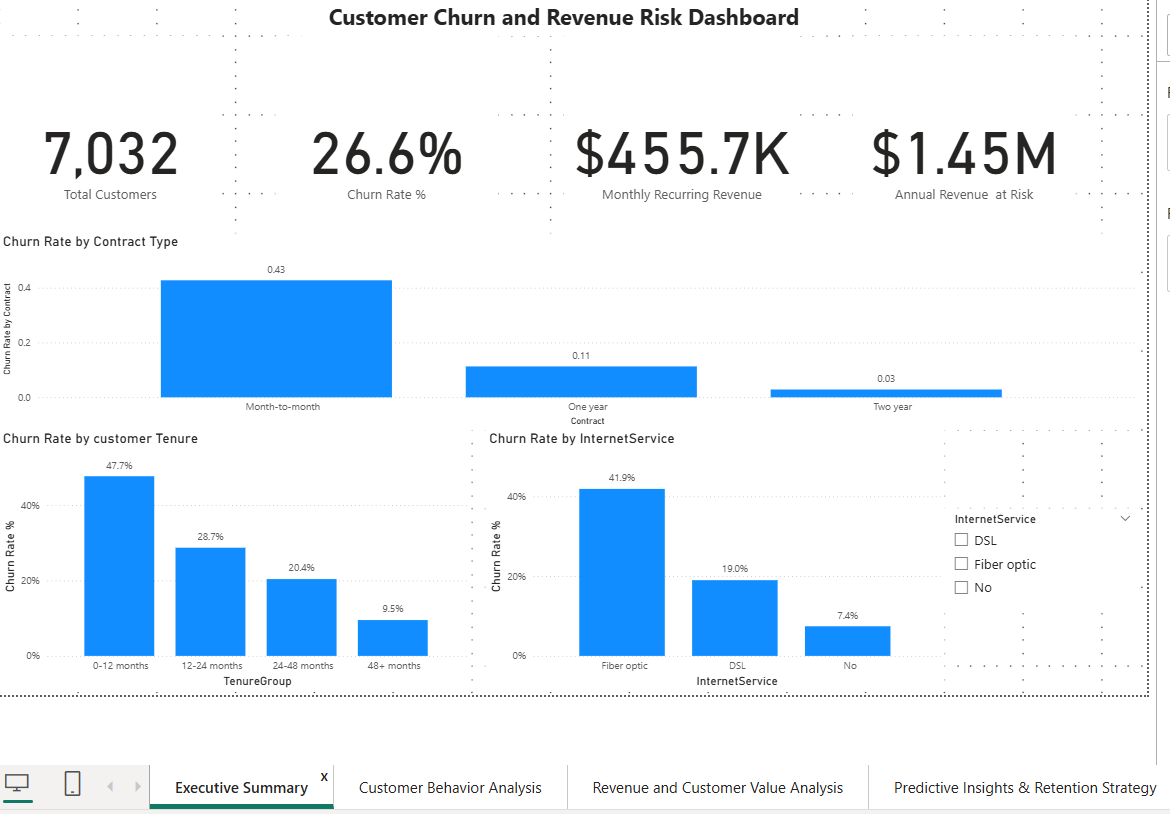

This screenshot's page, from the dashboard's own definition file:
{"tool":"powerbi","page":{"name":"Executive Summary","canvas":[1400,900],"ordinal":0},"visuals":[{"type":"card","fields":{"Values":["clean_telco_churn.Total Customers"]},"box":[0,96,272,288],"z":0},{"type":"card","fields":{"Values":["clean_telco_churn.Churn Rate %"]},"box":[336,96,272,288],"z":1000},{"type":"card","fields":{"Values":["clean_telco_churn.Total Revenue"]},"box":[688,96,288,288],"z":2000},{"type":"card","fields":{"Values":["clean_telco_churn.Revenue at Risk"]},"box":[1040,96,272,288],"z":3000},{"type":"textbox","box":[368,48,640,48],"z":4000},{"type":"clusteredColumnChart","title":"Churn Rate by Contract Type","fields":{"Category":["clean_telco_churn.Contract"],"Y":["clean_telco_churn.Churn Rate by Contract"]},"box":[0,336,1392,240],"z":5000},{"type":"clusteredColumnChart","title":"Churn Rate  by customer Tenure","fields":{"Category":["clean_telco_churn.TenureGroup"],"Y":["clean_telco_churn.Churn Rate %"]},"box":[0,576,576,320],"z":6000},{"type":"clusteredColumnChart","title":"Churn Rate  by InternetService","fields":{"Category":["clean_telco_churn.InternetService"],"Y":["clean_telco_churn.Churn Rate %"]},"box":[592,576,560,320],"z":7000},{"type":"slicer","fields":{"Values":["clean_telco_churn.InternetService"]},"box":[1152,672,240,128],"z":8000}]}

Visuals, with their boxes on the page's 1400x900 design canvas (x1, y1, x2, y2). These are canvas units, not pixel positions in the 1170x814 screenshot, which may show the page scaled, cropped or inside an application window:
card - clean_telco_churn.Total Customers: (left=0, top=96, right=272, bottom=384)
card - clean_telco_churn.Churn Rate %: (left=336, top=96, right=608, bottom=384)
card - clean_telco_churn.Total Revenue: (left=688, top=96, right=976, bottom=384)
card - clean_telco_churn.Revenue at Risk: (left=1040, top=96, right=1312, bottom=384)
textbox: (left=368, top=48, right=1008, bottom=96)
"Churn Rate by Contract Type" clusteredColumnChart: (left=0, top=336, right=1392, bottom=576)
"Churn Rate  by customer Tenure" clusteredColumnChart: (left=0, top=576, right=576, bottom=896)
"Churn Rate  by InternetService" clusteredColumnChart: (left=592, top=576, right=1152, bottom=896)
slicer - clean_telco_churn.InternetService: (left=1152, top=672, right=1392, bottom=800)
